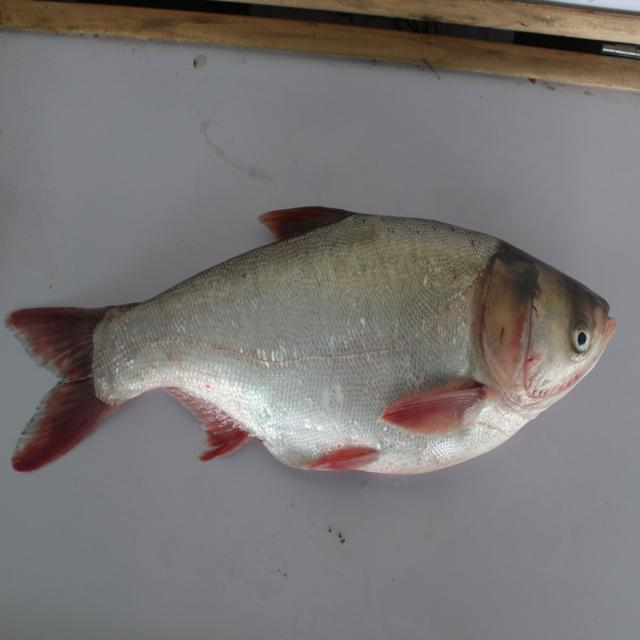SilverCarp: (11, 193, 615, 495)
